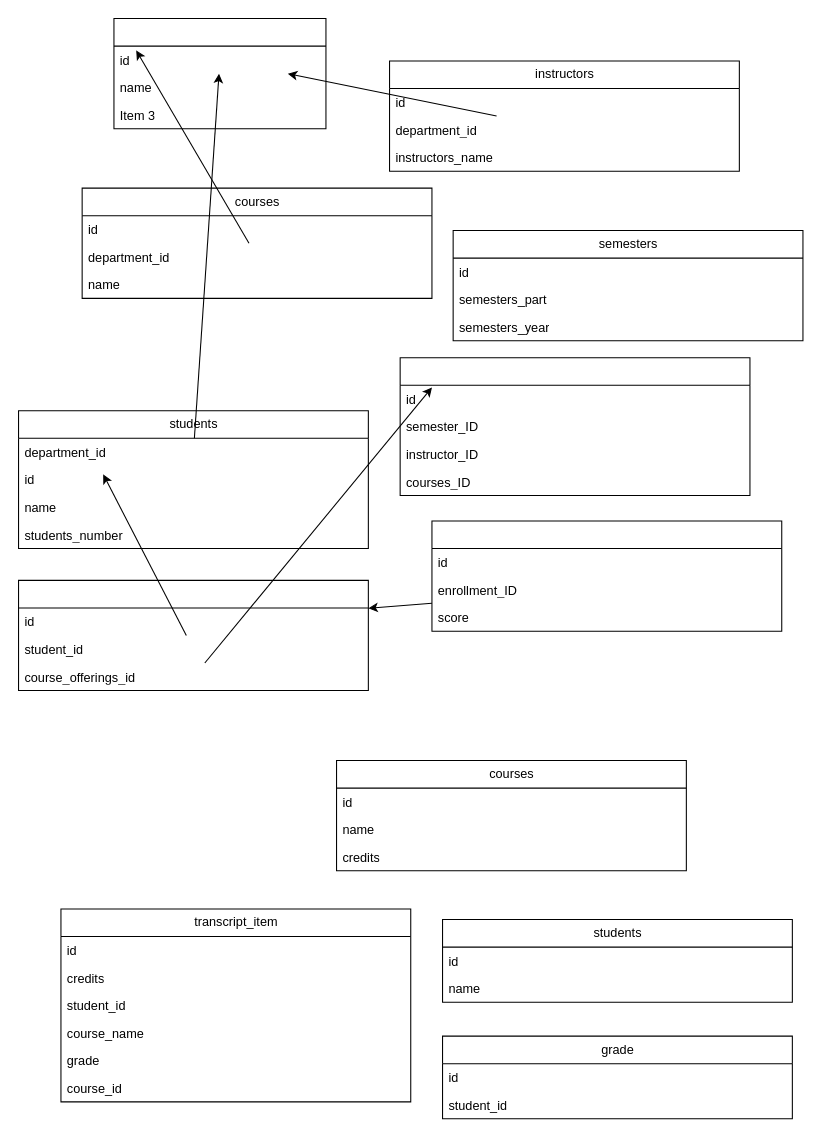
The diagram is 821 pixels wide and 1141 high, and some of its shapes have lost their labels. The shapes that lost their labels are listed below. From the top down, each one's box as (x1, y1, x2, y2) in pixels, then its label:
(113, 17, 326, 129): departments
(399, 357, 750, 496): course_offerings
(431, 520, 782, 631): trsnscript_items
(17, 579, 368, 691): enrollments
